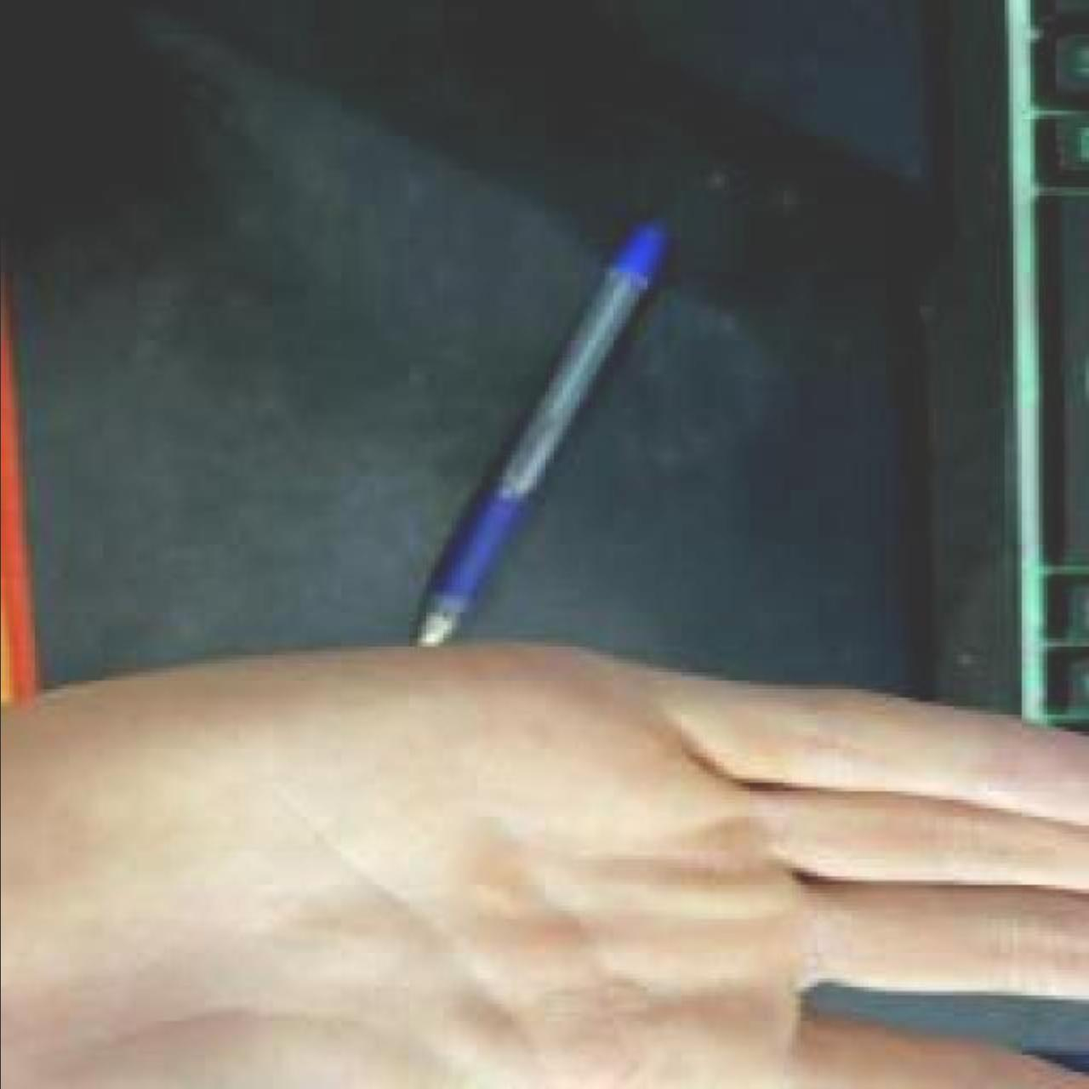pen: (412, 220, 672, 641)
